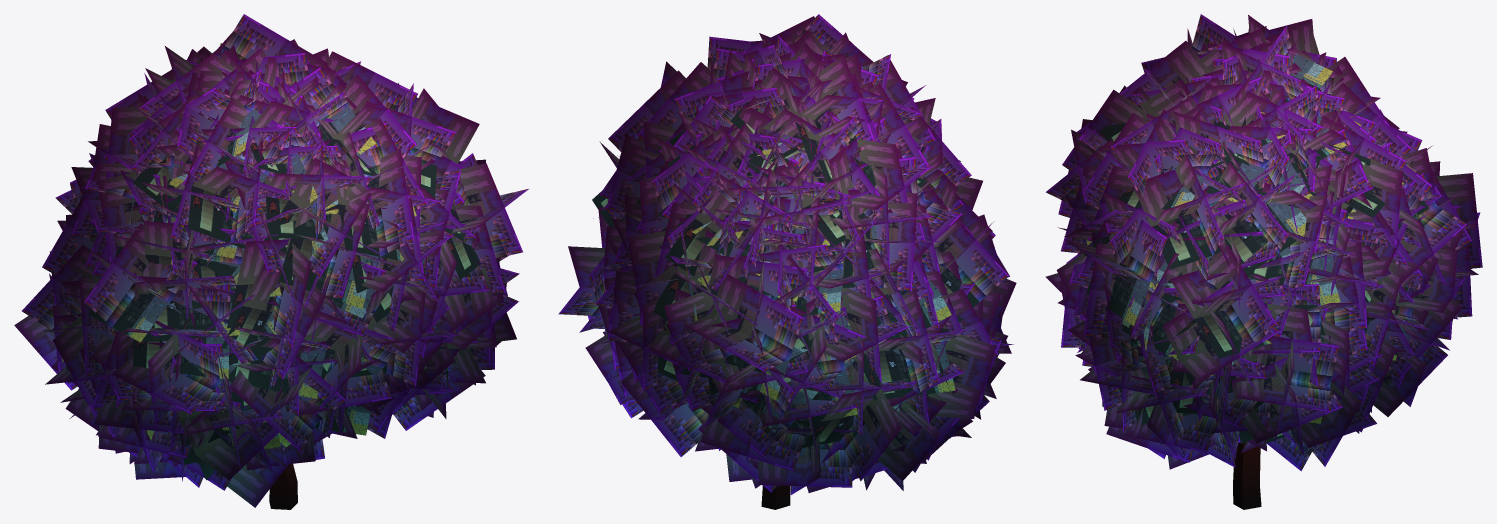
File: trp_bush.glb
3 views of the same model, side by side, from view 1: azimuth 30°, elevation 25°; view 2: azimuth 150°, elevation 25°; view 3: azimuth 270°, elevation 25° (orthographic). The views are drawn at different scales.
Parts seen in each view (by area): view 1: SM_Env_Bush_01_LOD0; view 2: SM_Env_Bush_01_LOD0; view 3: SM_Env_Bush_01_LOD0.
Boxes of the visible parts, box(x1,y1,x2,y2) form: SM_Env_Bush_01_LOD0: box(14, 14, 528, 509); SM_Env_Bush_01_LOD0: box(558, 14, 1016, 509); SM_Env_Bush_01_LOD0: box(1045, 14, 1482, 509).
Size of what is drawn, in the model's own units: 2.68 by 2.88 by 2.44.
Materials: 1 (1 with a texture image).
